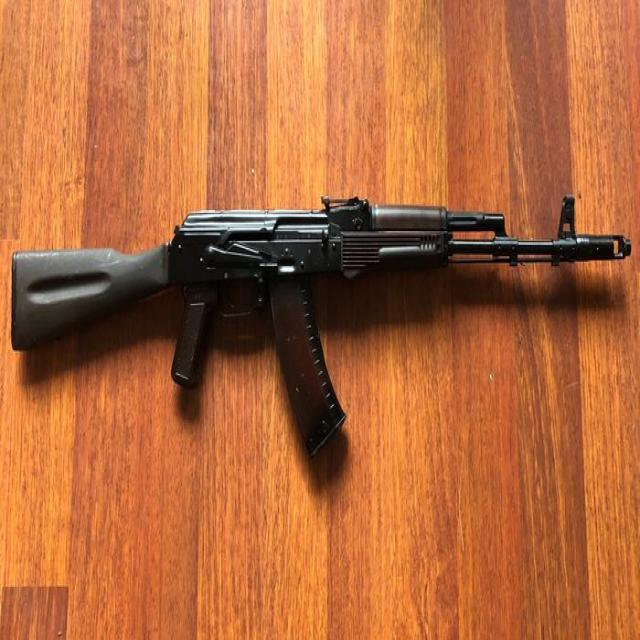weapon: (10, 190, 632, 460)
